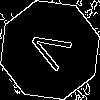V: (25, 25, 81, 77)
